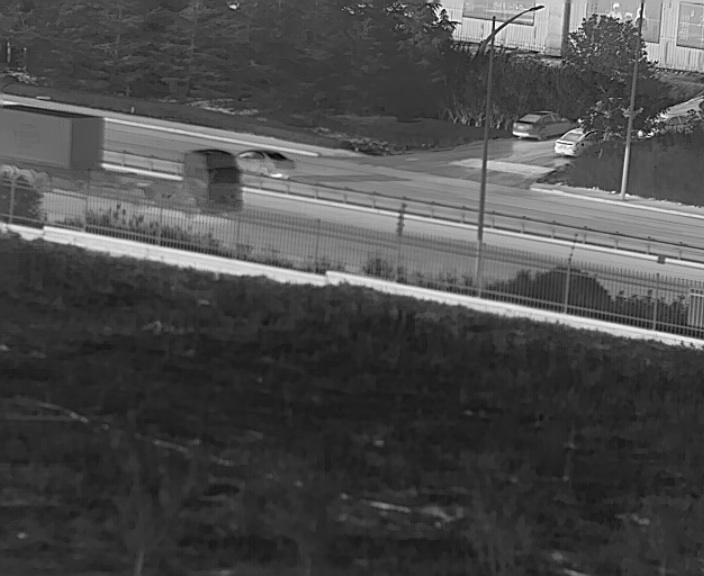vehicle: (1, 104, 240, 217), (232, 148, 293, 179), (511, 112, 569, 139), (553, 127, 585, 156)
